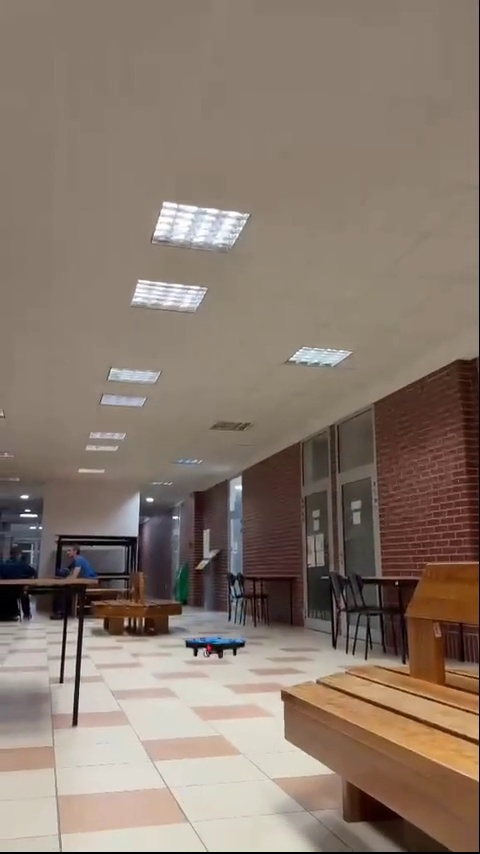drone: (186, 631, 245, 658)
no vest: (56, 539, 96, 611), (5, 544, 38, 619)
